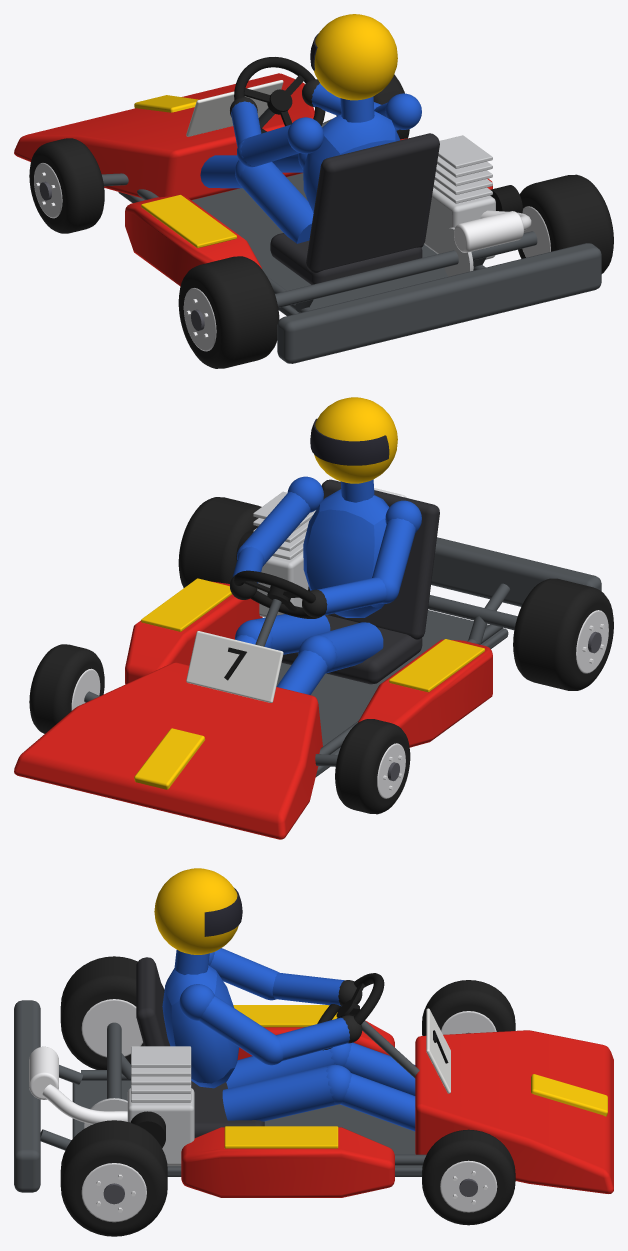
The model's file is kart.glb.
The picture shows the model from 3 angles, top to bottom: view 1: azimuth 30°, elevation 25°; view 2: azimuth 150°, elevation 25°; view 3: azimuth 270°, elevation 25°; orthographic projection.
Visible parts, largest first — view 1: Para_Choque_Traseiro, Banco_Encosto, Carenagem_Frontal, Roda_TE_Pneu, Chassi_Assoalho, Piloto_Capacete, Roda_TD_Pneu, Roda_DE_Pneu, Laterais, Chassi_Eixo_Traseiro, Piloto_Coxa_E, Piloto_Tronco (+21 smaller); view 2: Carenagem_Frontal, Laterais, Roda_TE_Pneu, Piloto_Tronco, Para_Choque_Traseiro, Laterais_Faixa, Roda_TD_Pneu, Banco_Encosto, Chassi_Assoalho, Roda_DE_Pneu, Placa_Numero, Piloto_Capacete (+22 smaller); view 3: Carenagem_Frontal, Laterais, Roda_TD_Pneu, Piloto_Capacete, Roda_DD_Pneu, Piloto_Tronco, Chassi_Assoalho, Para_Choque_Traseiro, Roda_TE_Pneu, Laterais_Faixa, Piloto_Coxa_D, Motor_Aletas (+27 smaller).
Boxes of the visible parts, <box> form: Para_Choque_Traseiro: <box>277,243,601,363</box>; Banco_Encosto: <box>306,133,439,273</box>; Carenagem_Frontal: <box>14,73,314,200</box>; Roda_TE_Pneu: <box>178,256,279,368</box>; Chassi_Assoalho: <box>118,173,448,315</box>; Piloto_Capacete: <box>314,14,397,100</box>; Roda_TD_Pneu: <box>518,174,613,273</box>; Roda_DE_Pneu: <box>29,138,104,233</box>; Laterais: <box>125,138,492,286</box>; Chassi_Eixo_Traseiro: <box>275,231,537,307</box>; Piloto_Coxa_E: <box>238,162,313,243</box>; Piloto_Tronco: <box>303,111,399,212</box>; Carenagem_Frontal: <box>14,662,322,839</box>; Laterais: <box>125,581,492,747</box>; Roda_TE_Pneu: <box>513,578,613,690</box>; Piloto_Tronco: <box>303,489,389,617</box>; Para_Choque_Traseiro: <box>431,537,601,606</box>; Laterais_Faixa: <box>141,578,484,692</box>; Roda_TD_Pneu: <box>178,497,261,587</box>; Banco_Encosto: <box>308,479,439,639</box>; Chassi_Assoalho: <box>276,610,508,776</box>; Roda_DE_Pneu: <box>335,719,410,814</box>; Placa_Numero: <box>186,631,283,702</box>; Piloto_Capacete: <box>314,397,397,483</box>; Carenagem_Frontal: <box>415,1030,613,1193</box>; Laterais: <box>181,1020,394,1197</box>; Roda_TD_Pneu: <box>60,1120,167,1236</box>; Piloto_Capacete: <box>154,868,238,954</box>; Roda_DD_Pneu: <box>422,1129,515,1225</box>; Piloto_Tronco: <box>162,965,239,1088</box>; Chassi_Assoalho: <box>72,1080,422,1176</box>; Para_Choque_Traseiro: <box>14,1000,40,1192</box>; Roda_TE_Pneu: <box>60,956,164,1069</box>; Laterais_Faixa: <box>224,1005,338,1148</box>; Piloto_Coxa_D: <box>222,1065,337,1121</box>; Motor_Aletas: <box>131,1046,191,1102</box>.
Bounding box in the file's own units: 1.39 × 0.9 × 1.79.
